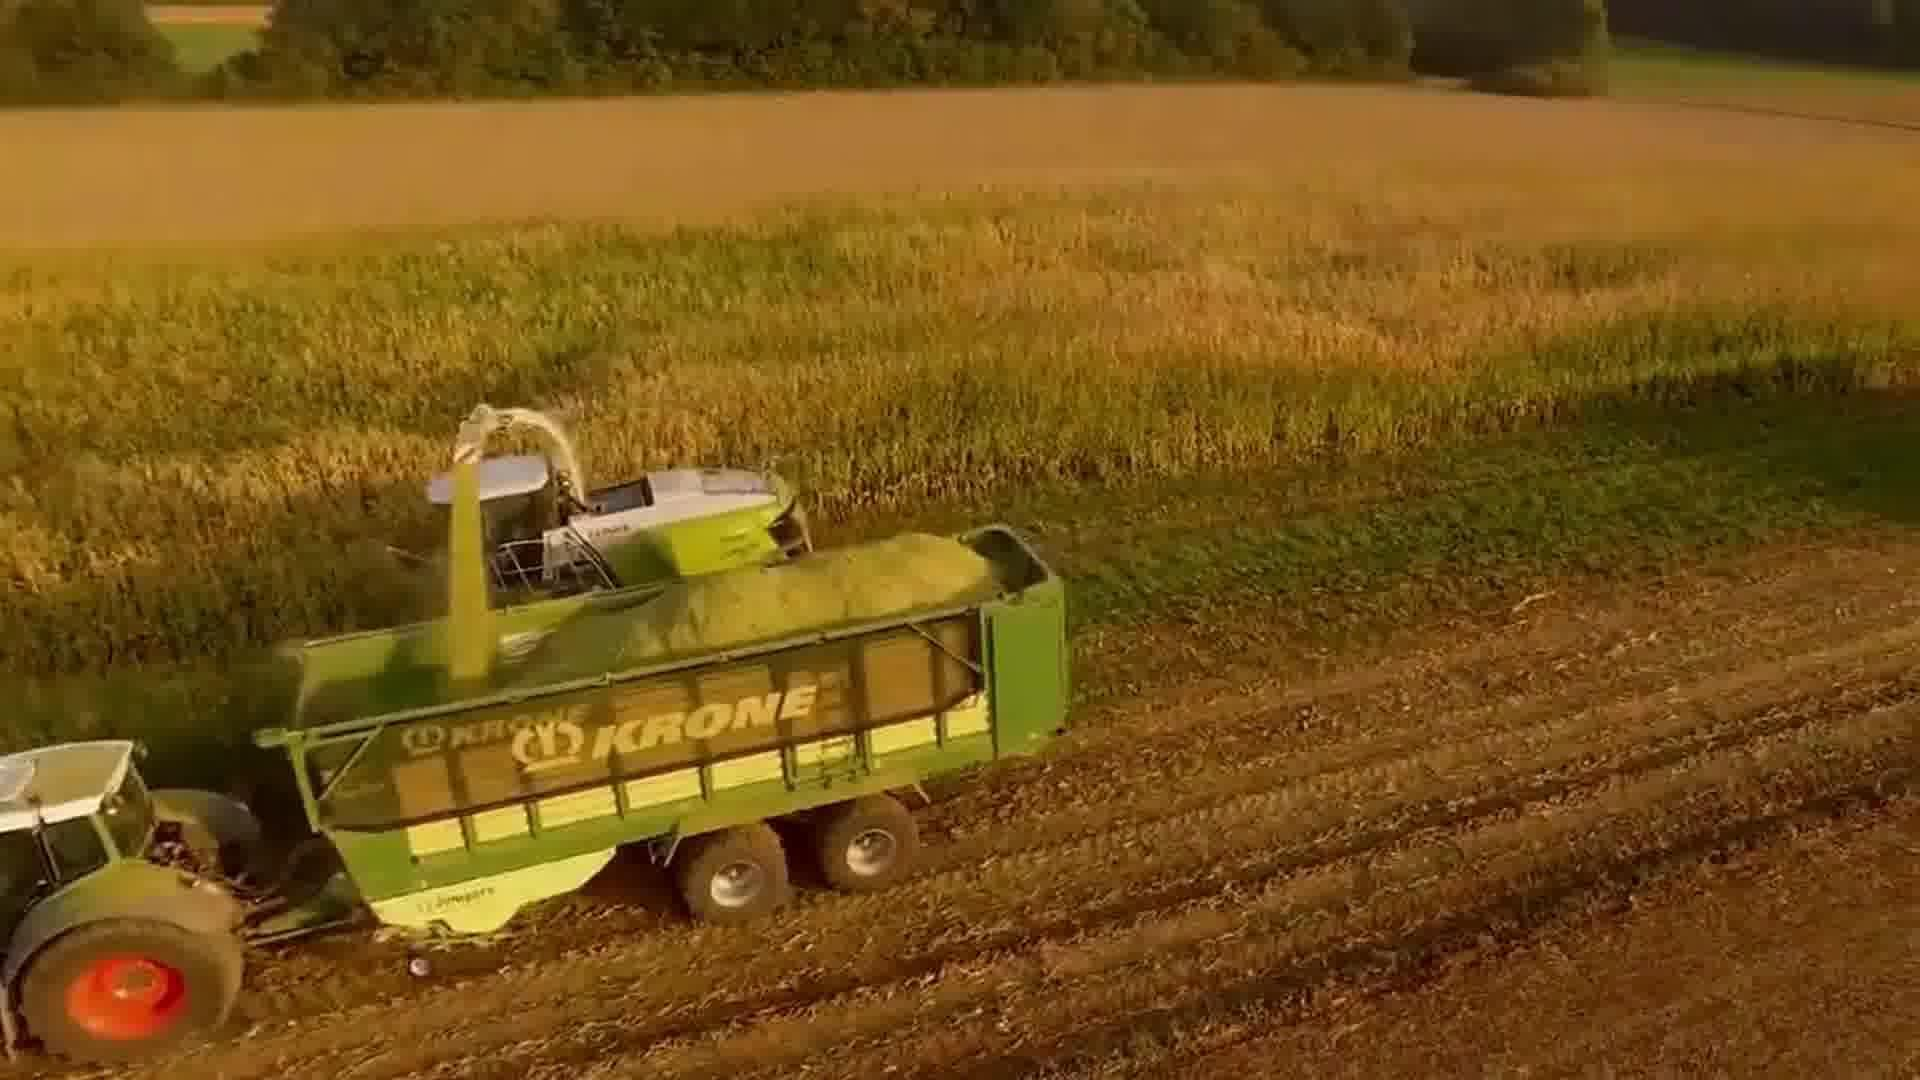combine harvester: (364, 393, 818, 630)
tractor: (0, 724, 262, 1067)
trailer: (247, 520, 1079, 975)
